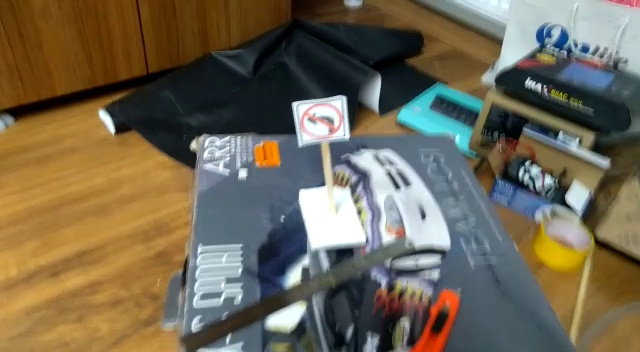sola_donulmez: (298, 101, 346, 142)
